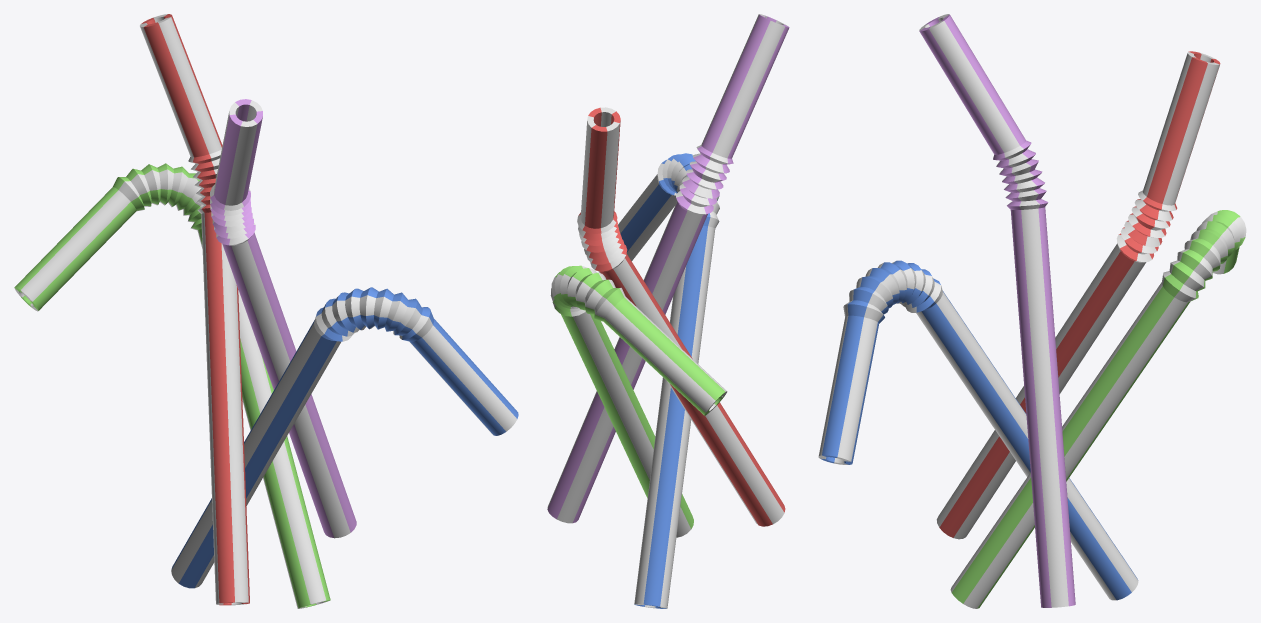
Rendered from straw2.fbx.
3 renders of one model, left to right at view 1: azimuth 30°, elevation 25°; view 2: azimuth 150°, elevation 25°; view 3: azimuth 270°, elevation 25°, orthographic. The views are drawn at different scales.
Parts seen in each view (by area): view 1: Circle.010; view 2: Circle.010; view 3: Circle.010.
Boxes of the visible parts, <box> form: Circle.010: <box>14,14,518,608</box>; Circle.010: <box>547,14,789,608</box>; Circle.010: <box>818,14,1246,608</box>.
Size of the model in its own units: 1.11 by 1.89 by 1.3.
